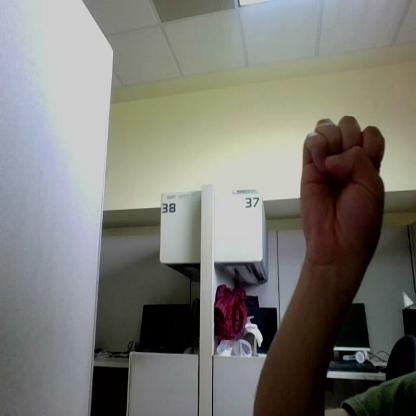S: (301, 114, 384, 264)
